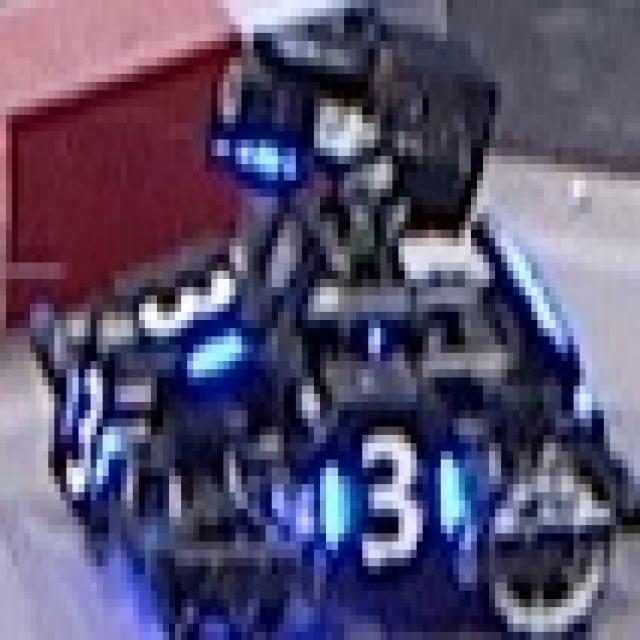B3: (314, 427, 465, 566), (54, 361, 121, 509)
